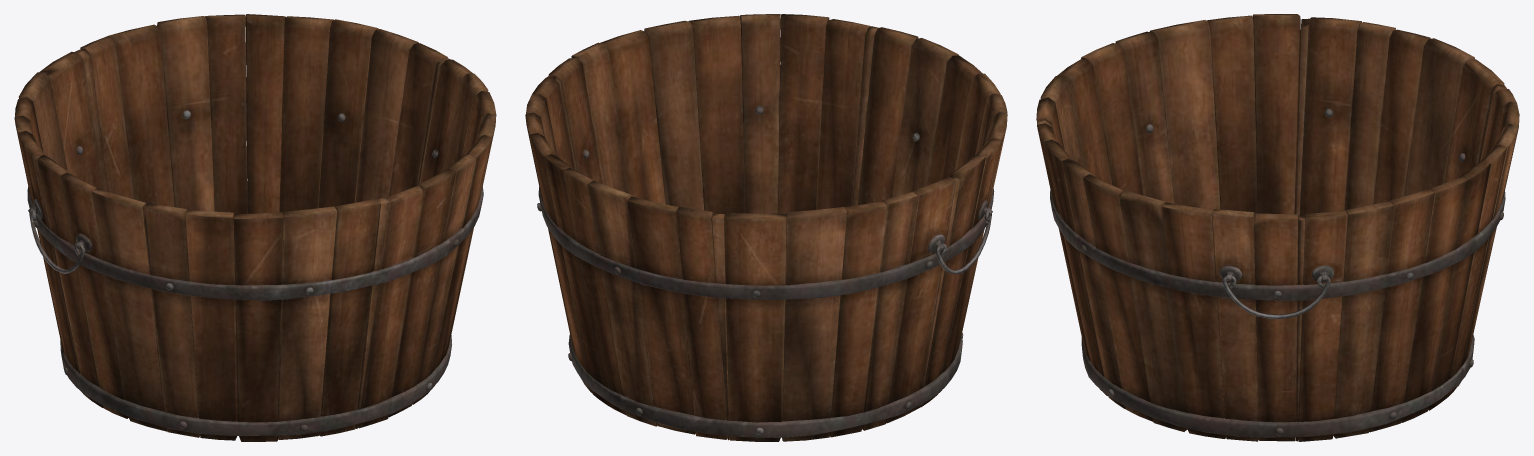
Rendered from wooden_bucket_02.gltf.
3 renders of one model, left to right at view 1: azimuth 30°, elevation 25°; view 2: azimuth 150°, elevation 25°; view 3: azimuth 270°, elevation 25°, orthographic.
Parts seen in each view (by area): view 1: wooden_bucket_02, wooden_bucket_02_handle_01; view 2: wooden_bucket_02, wooden_bucket_02_handle_01; view 3: wooden_bucket_02, wooden_bucket_02_handle_02.
Boxes of the visible parts, x1,y1,x2,y2 form: wooden_bucket_02: (14, 14, 496, 441); wooden_bucket_02_handle_01: (29, 210, 85, 273); wooden_bucket_02: (525, 14, 1007, 441); wooden_bucket_02_handle_01: (935, 209, 991, 274); wooden_bucket_02: (1036, 14, 1519, 441); wooden_bucket_02_handle_02: (1222, 275, 1330, 318).
Bounding box in the file's own units: 0.6149 × 0.3504 × 0.616.
Materials: 1 (1 with a texture image).
